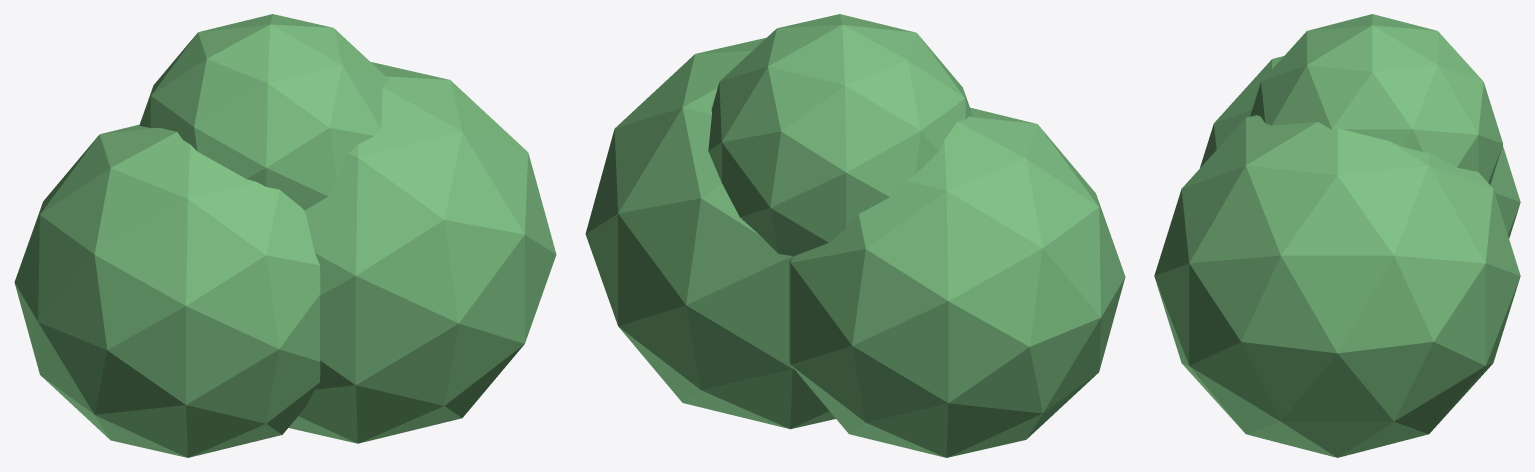
Rendered from env_low_bush.glb.
The picture shows the model from 3 angles, left to right: view 1: azimuth 30°, elevation 25°; view 2: azimuth 150°, elevation 25°; view 3: azimuth 270°, elevation 25°; orthographic projection. The views are drawn at different scales.
Parts seen in each view (by area): view 1: bush_a, bush_b, bush_c; view 2: bush_a, bush_b, bush_c; view 3: bush_b, bush_c, bush_a.
Part boxes in pixels (x1,y1,x2,y2): bush_a: [14, 124, 320, 457]; bush_b: [288, 62, 556, 443]; bush_c: [139, 14, 389, 210]; bush_a: [789, 107, 1125, 457]; bush_b: [585, 37, 835, 429]; bush_c: [708, 14, 971, 256]; bush_b: [1154, 115, 1520, 457]; bush_c: [1250, 14, 1502, 184]; bush_a: [1200, 56, 1520, 238].
Size of the model in its own units: 1.2 by 0.97 by 0.84.
